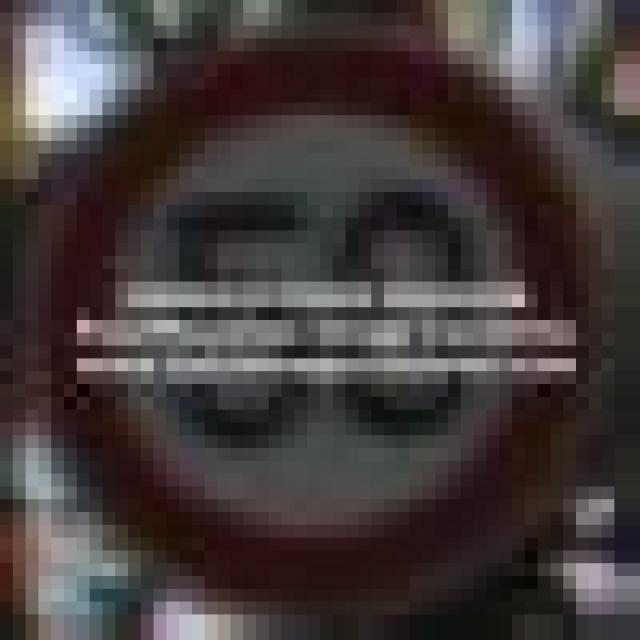speed_limit_30: (26, 39, 588, 564)
